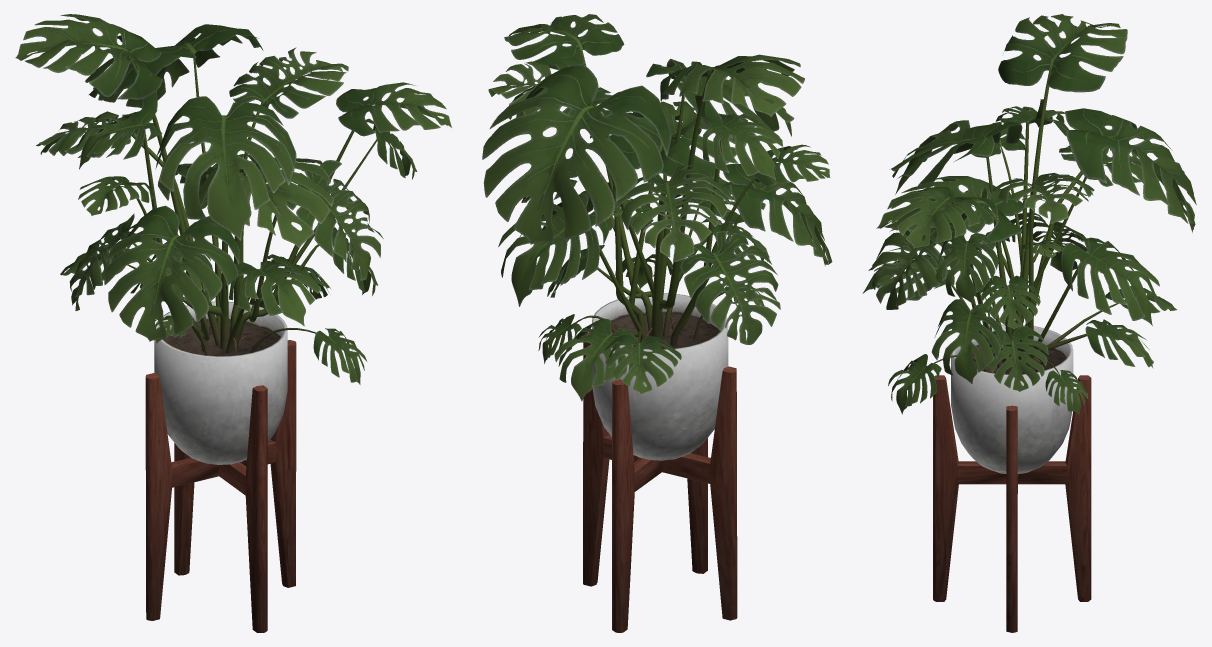
Rendered from monstera.glb.
3 renders of one model, left to right at view 1: azimuth 30°, elevation 25°; view 2: azimuth 150°, elevation 25°; view 3: azimuth 270°, elevation 25°, orthographic. The views are drawn at different scales.
Visible parts, largest first — view 1: Leaves_Mat.1_0, Stand_Mat_0, root_HP_1_Mat.2_0; view 2: Leaves_Mat.1_0, Stand_Mat_0, root_HP_1_Mat.2_0; view 3: Leaves_Mat.1_0, Stand_Mat_0, root_HP_1_Mat.2_0.
Boxes of the visible parts, x1=… form: Leaves_Mat.1_0: x1=15, y1=14, x2=451, y2=384; Stand_Mat_0: x1=145, y1=301, x2=296, y2=632; root_HP_1_Mat.2_0: x1=127, y1=53, x2=376, y2=355; Leaves_Mat.1_0: x1=482, y1=14, x2=832, y2=401; Stand_Mat_0: x1=583, y1=293, x2=737, y2=632; root_HP_1_Mat.2_0: x1=559, y1=50, x2=756, y2=346; Leaves_Mat.1_0: x1=862, y1=14, x2=1196, y2=414; Stand_Mat_0: x1=933, y1=324, x2=1091, y2=632; root_HP_1_Mat.2_0: x1=933, y1=68, x2=1124, y2=375.
Bounding box in the file's own units: 0.7668 × 1.2 × 0.6976.
3 materials, 3 textured.
